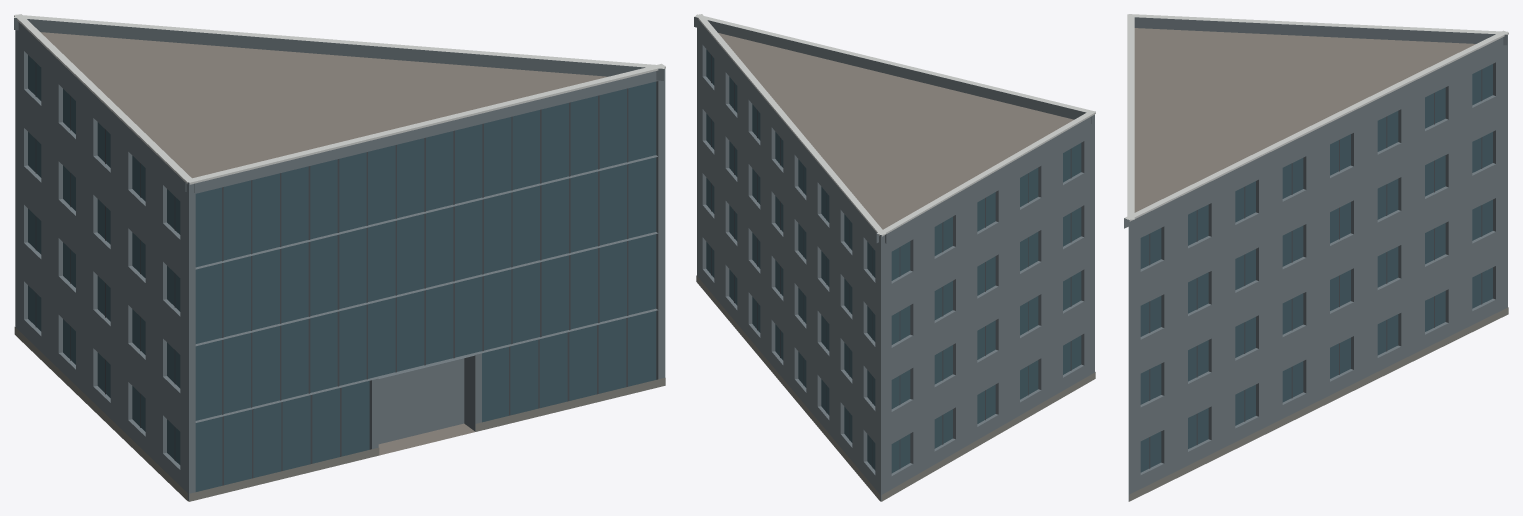
3 views of the same model, side by side, from view 1: azimuth 30°, elevation 25°; view 2: azimuth 150°, elevation 25°; view 3: azimuth 270°, elevation 25° (orthographic). The views are drawn at different scales.
Parts seen in each view (by area): view 1: archLab__glass, archLab__wall, archLab__roof, archLab__parapet, archLab__frame, archLab__trim, archLab__base; view 2: archLab__wall, archLab__roof, archLab__glass, archLab__parapet, archLab__trim, archLab__base, archLab__frame; view 3: archLab__wall, archLab__roof, archLab__glass, archLab__parapet, archLab__trim, archLab__base, archLab__frame.
Boxes of the visible parts, bbox=[...] form: archLab__glass: bbox=[28, 55, 656, 491]; archLab__wall: bbox=[15, 30, 665, 501]; archLab__roof: bbox=[40, 32, 607, 501]; archLab__parapet: bbox=[14, 18, 665, 194]; archLab__frame: bbox=[35, 62, 628, 485]; archLab__trim: bbox=[14, 14, 665, 184]; archLab__base: bbox=[14, 327, 665, 501]; archLab__wall: bbox=[697, 27, 1094, 501]; archLab__roof: bbox=[718, 33, 1073, 501]; archLab__glass: bbox=[706, 49, 1081, 473]; archLab__parapet: bbox=[694, 17, 1094, 244]; archLab__trim: bbox=[694, 14, 1095, 236]; archLab__base: bbox=[696, 275, 1095, 501]; archLab__frame: bbox=[711, 55, 1071, 468]; archLab__wall: bbox=[1128, 43, 1507, 501]; archLab__roof: bbox=[1134, 28, 1475, 212]; archLab__glass: bbox=[1140, 64, 1492, 472]; archLab__parapet: bbox=[1124, 17, 1507, 229]; archLab__trim: bbox=[1124, 14, 1508, 221]; archLab__base: bbox=[1129, 307, 1508, 501]; archLab__frame: bbox=[1149, 69, 1482, 468].
Size of the model in its own units: 24.77 by 15.82 by 19.54.
